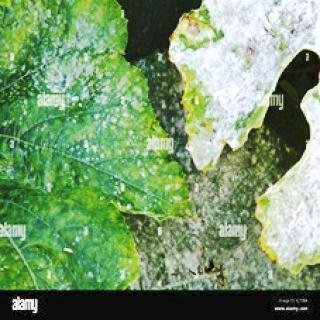grey mildew: (6, 4, 178, 290), (187, 7, 318, 275)
